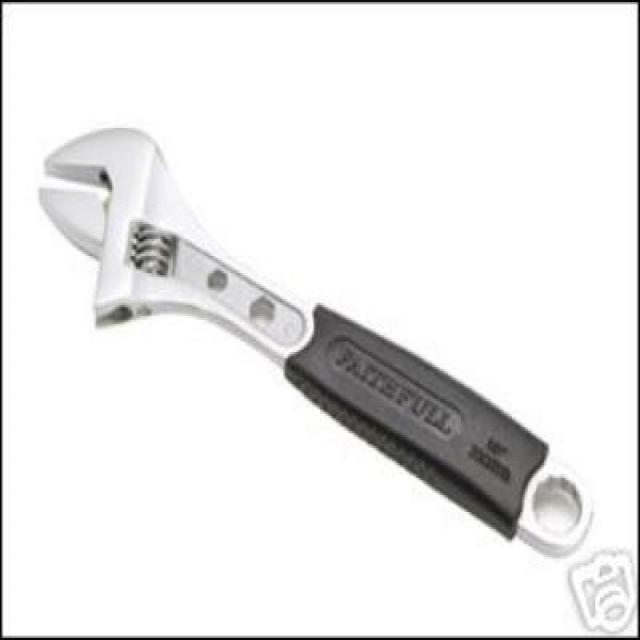wrench: (32, 95, 599, 566)
